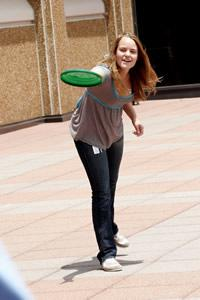person: (60, 33, 159, 272)
